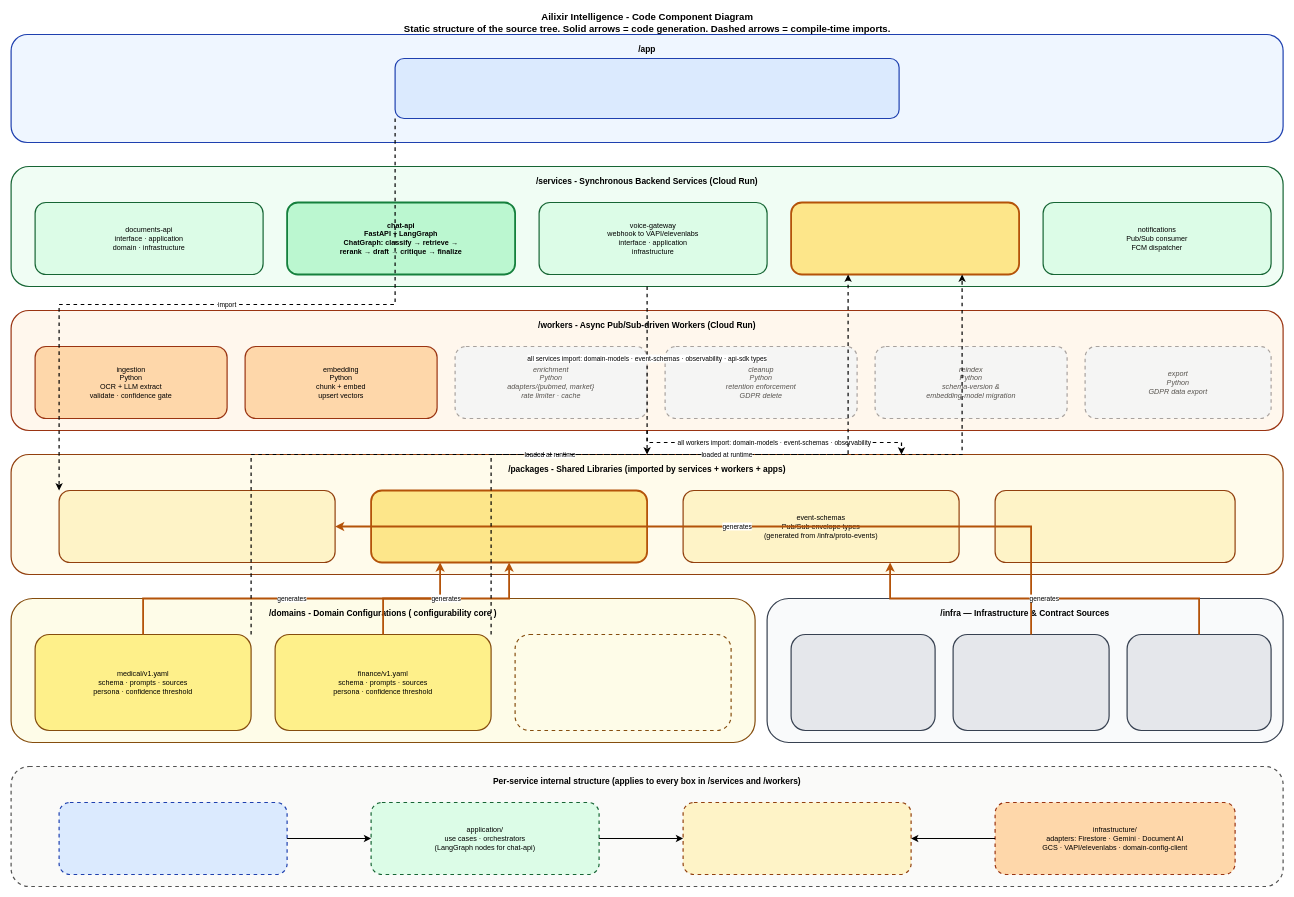
This 1294x897 diagram has some shape labels left out. Here are the shapes that lost their labels. From the top down, the centre of each, then its label:
At pixel 646 88: "mobile (React Native + TypeScript) features/ · shared/ · platform/".
At pixel 905 238: "domain-config serves YAML schemas ETag cache loads /domains at runtime".
At pixel 196 526: "api-sdk TS + Python clients (generated from OpenAPI)".
At pixel 509 526: "domain-models Pydantic + TS types (generated from /domains/*.yaml)".
At pixel 1114 526: "observability structured logger · tracer metric helpers".
At pixel 622 682: "...future domains (adding a domain = adding YAML, NO code change required)".
At pixel 862 682: "terraform/ Cloud Run · Pub/Sub GCS · IAM · KMS · VPC-SC".
At pixel 1030 682: "openapi/v1.yaml source of api-sdk (also enforced by Cloud Endpoints at the edge)".
At pixel 1198 682: "proto-events/ JSON schemas for Pub/Sub events (versioned)".
At pixel 172 838: "interface/ HTTP routes · Pub/Sub consumers SSE handlers · webhooks".
At pixel 796 838: "domain/ entities · value objects · schemas NO I/O - pure code".
